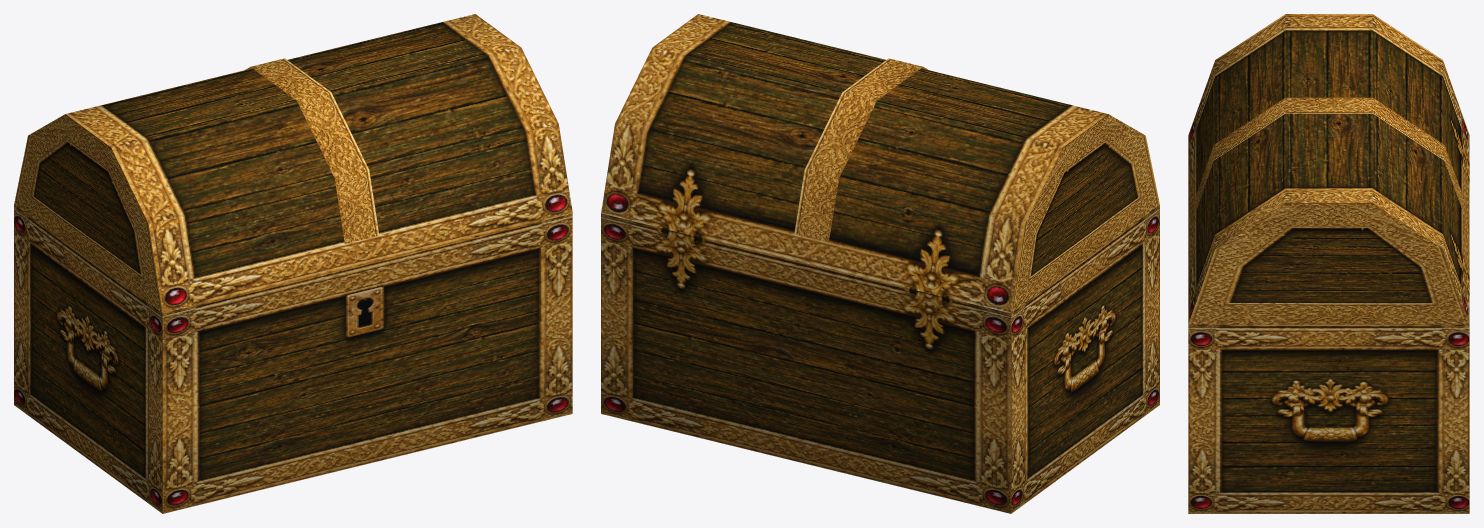
Rendered from mm9_deco_chest5.glb.
3 renders of one model, left to right at view 1: azimuth 30°, elevation 25°; view 2: azimuth 150°, elevation 25°; view 3: azimuth 270°, elevation 25°, orthographic. The views are drawn at different scales.
Visible parts, largest first — view 1: Chest5; view 2: Chest5; view 3: Chest5.
Part boxes in pixels (x1=…): Chest5: x1=14, y1=14, x2=572, y2=513; Chest5: x1=601, y1=14, x2=1159, y2=513; Chest5: x1=1188, y1=14, x2=1469, y2=513.
Bounding box in the file's own units: 1 × 0.7714 × 0.6291.
Materials: 1 (1 with a texture image).
